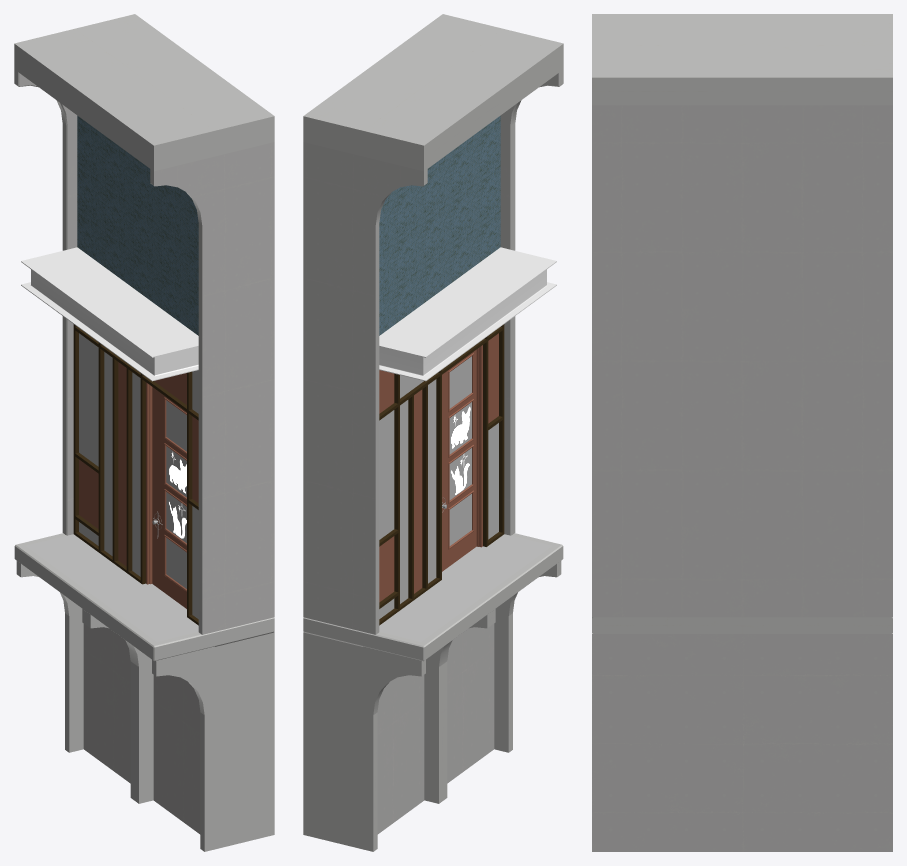
The model's file is DoorExit.fbx.
3 renders of one model, left to right at view 1: azimuth 30°, elevation 25°; view 2: azimuth 150°, elevation 25°; view 3: azimuth 270°, elevation 25°, orthographic. The views are drawn at different scales.
Parts seen in each view (by area): view 1: WallExit, Floor, InfillTile, Canopy, InfillWood, WindowFrames, Door; view 2: WallExit, Floor, InfillTile, Canopy, InfillWood, WindowFrames, Door; view 3: WallExit, Floor.
Boxes of the visible parts, x1=… form: WallExit: x1=14, y1=14, x2=274, y2=634; Floor: x1=14, y1=533, x2=274, y2=851; InfillTile: x1=77, y1=115, x2=198, y2=335; Canopy: x1=21, y1=247, x2=198, y2=381; InfillWood: x1=79, y1=333, x2=198, y2=618; WindowFrames: x1=73, y1=324, x2=198, y2=625; Door: x1=152, y1=387, x2=186, y2=608; WallExit: x1=303, y1=14, x2=563, y2=634; Floor: x1=303, y1=533, x2=563, y2=851; InfillTile: x1=379, y1=115, x2=500, y2=335; Canopy: x1=379, y1=247, x2=556, y2=381; InfillWood: x1=379, y1=333, x2=498, y2=618; WindowFrames: x1=379, y1=324, x2=504, y2=625; Door: x1=442, y1=349, x2=476, y2=571; WallExit: x1=592, y1=14, x2=892, y2=617; Floor: x1=592, y1=617, x2=892, y2=851.
Size of the model in its own units: 2.5 by 14.2 by 5.
